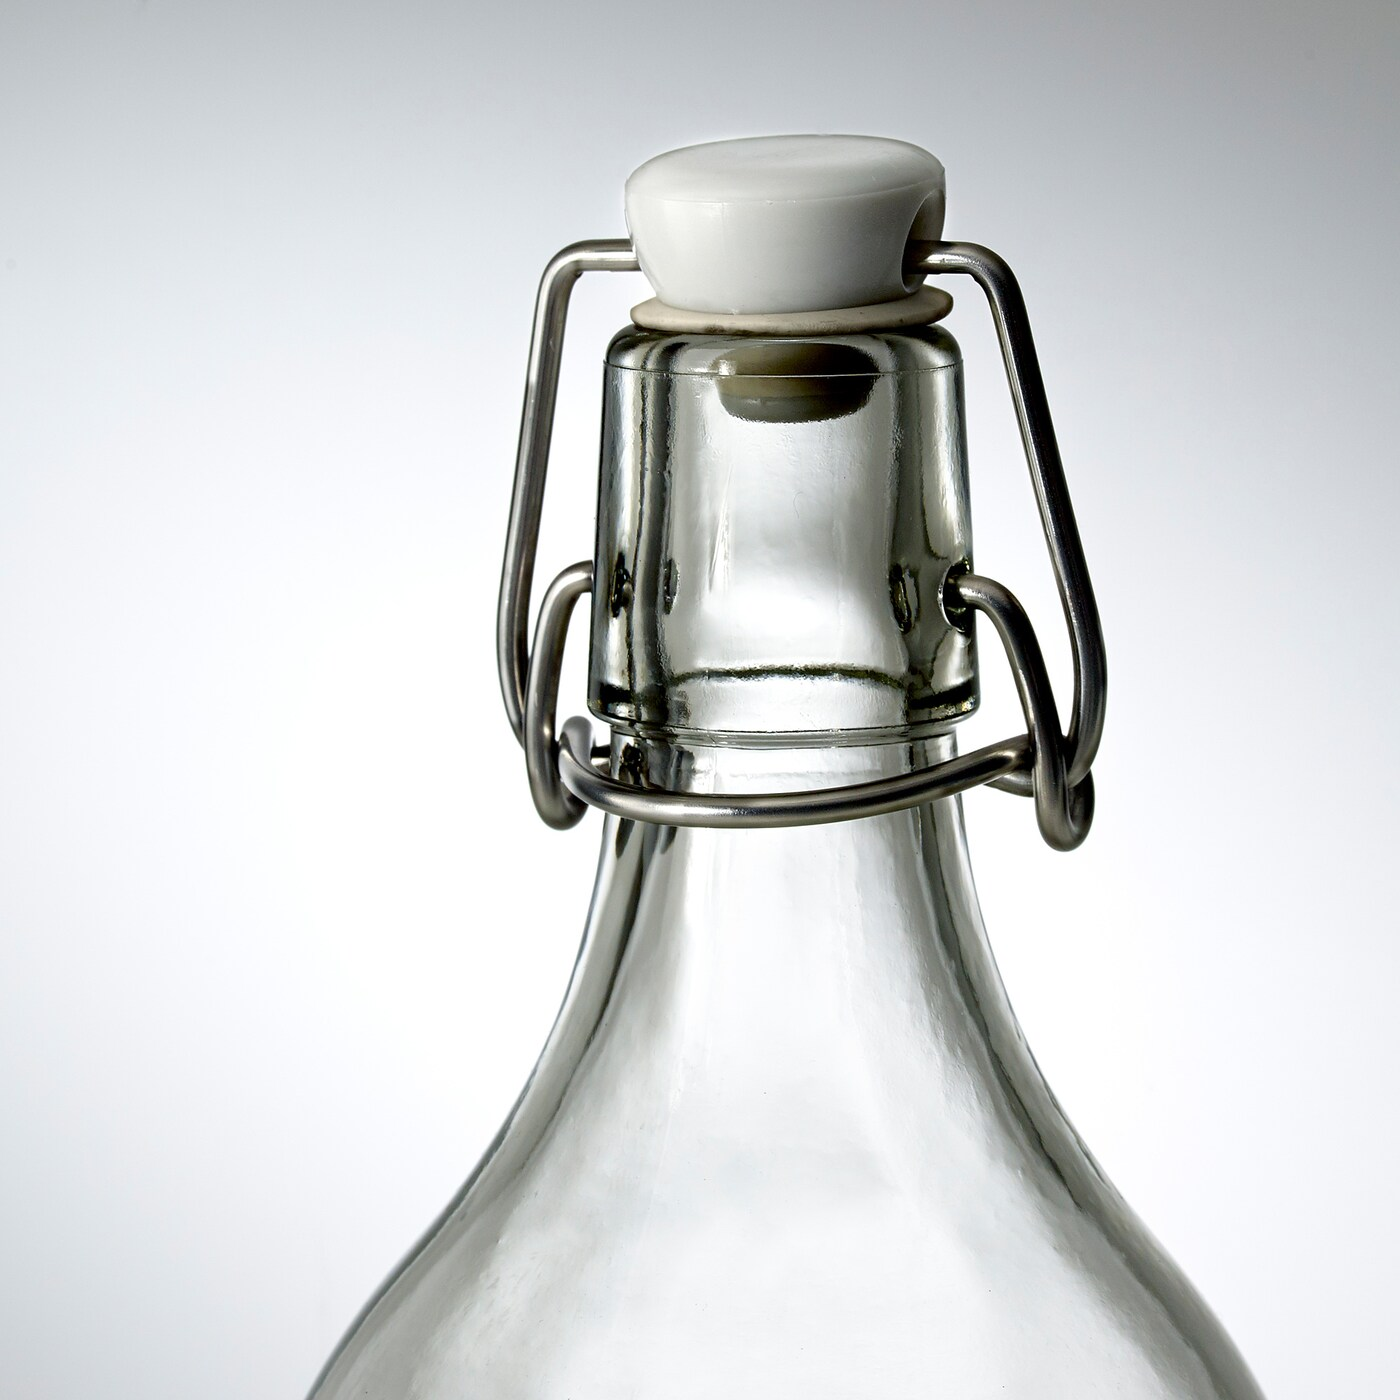glass_bottle: (246, 79, 1335, 1399)
